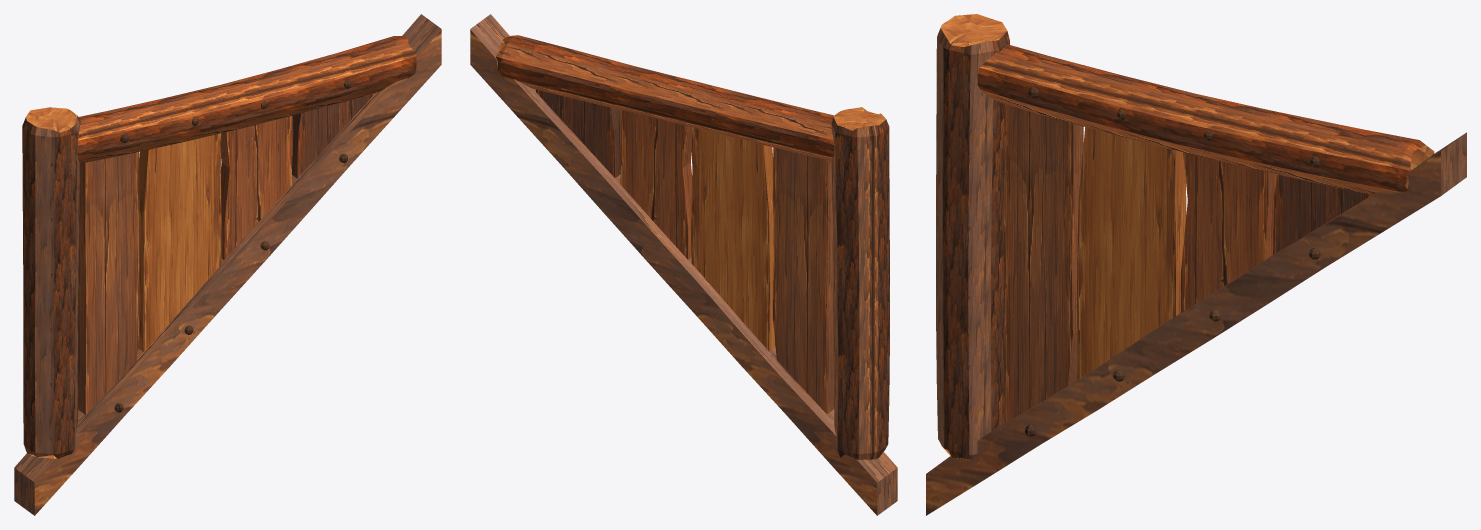
The model's file is sloped_wall_down__plank_root.glb.
3 renders of one model, left to right at view 1: azimuth 30°, elevation 25°; view 2: azimuth 150°, elevation 25°; view 3: azimuth 330°, elevation 25°, orthographic. The views are drawn at different scales.
Visible parts, largest first — view 1: model; view 2: model; view 3: model.
Boxes of the visible parts, left/top/right/bottom form: model: left=14, top=14, right=441, bottom=515; model: left=470, top=14, right=897, bottom=515; model: left=926, top=14, right=1466, bottom=515.
Size of the model in its own units: 1.94 by 1.77 by 0.2337.
10 materials, 10 textured.
